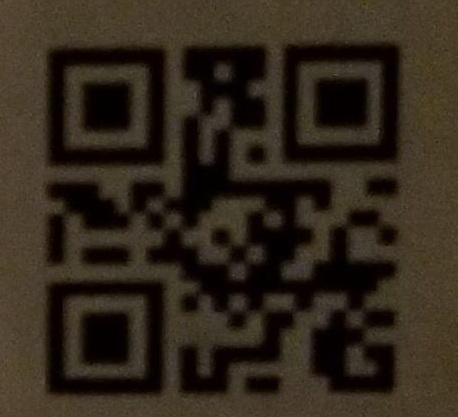qrcode: (45, 43, 403, 398)
